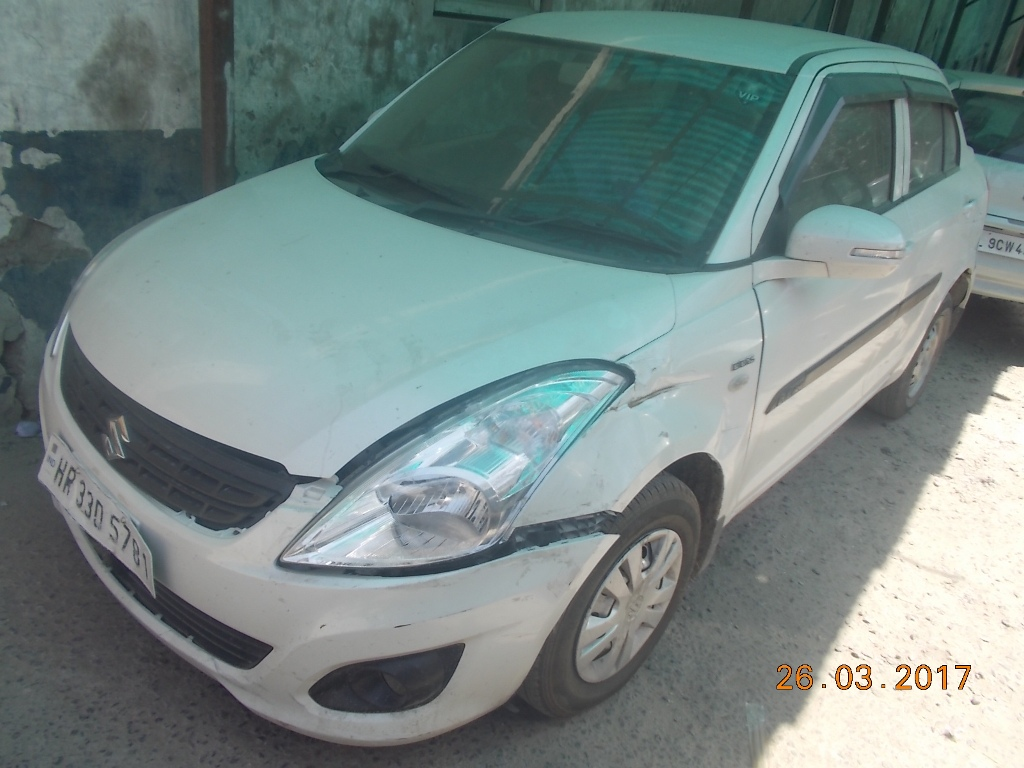Dislocation: (508, 501, 636, 562)
Scratch_or_spot: (627, 380, 678, 422)
